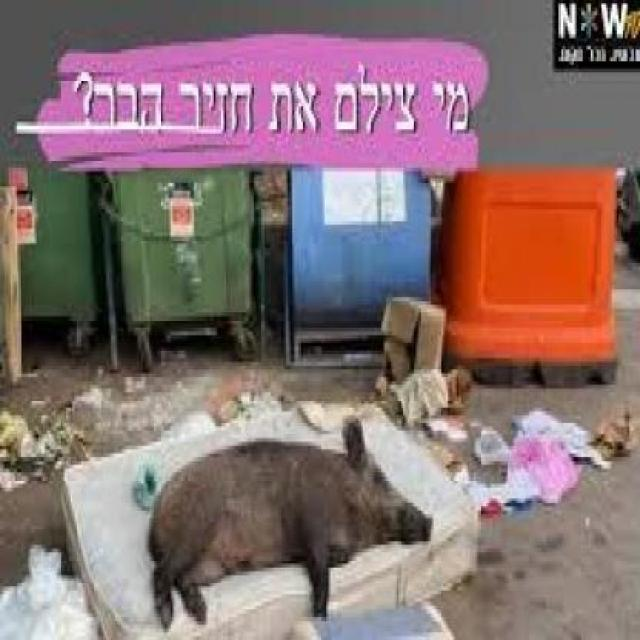wildboar: (146, 412, 434, 638)
